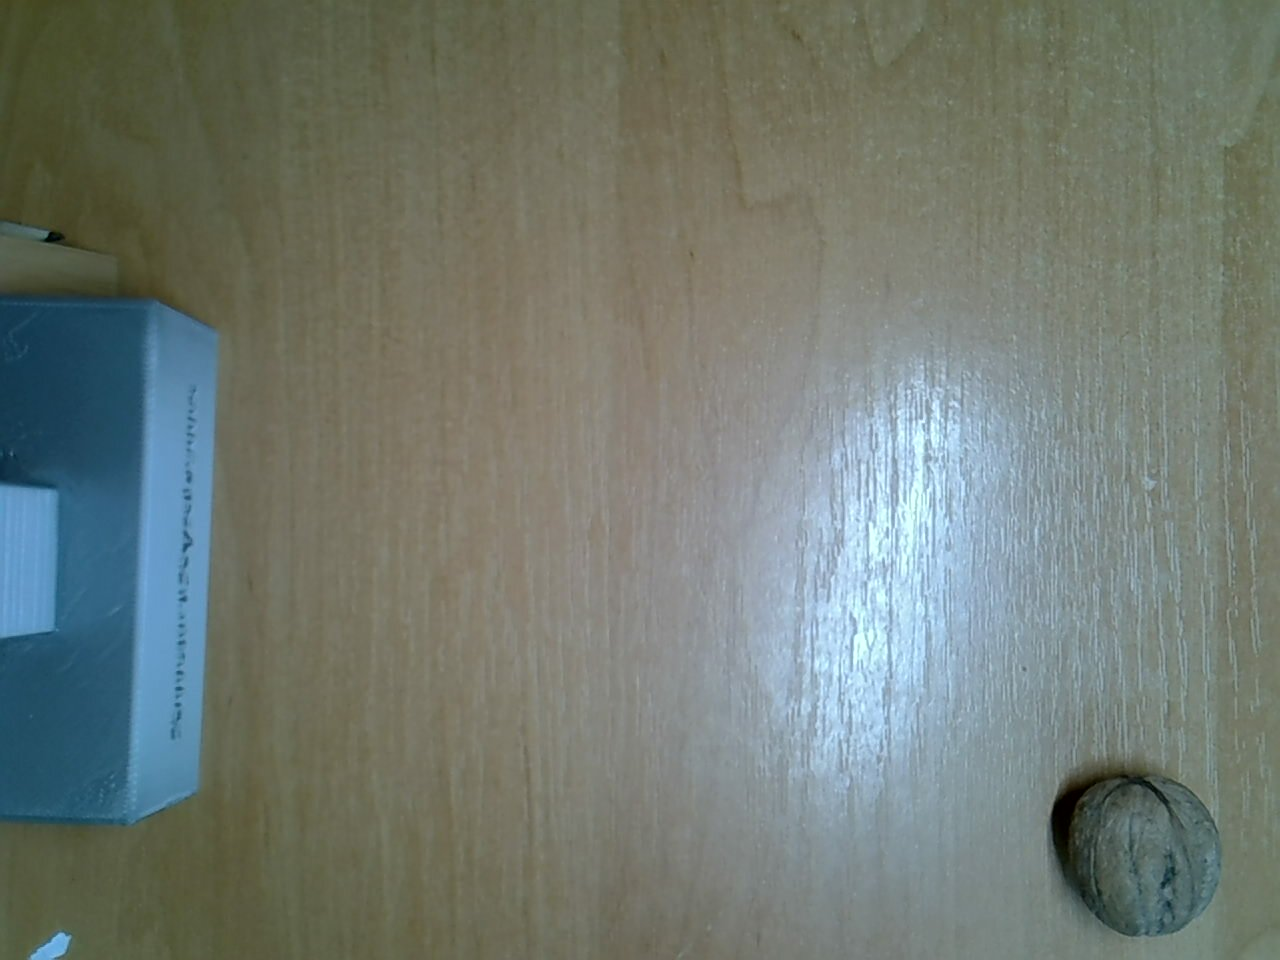nut: (1070, 767, 1226, 940)
